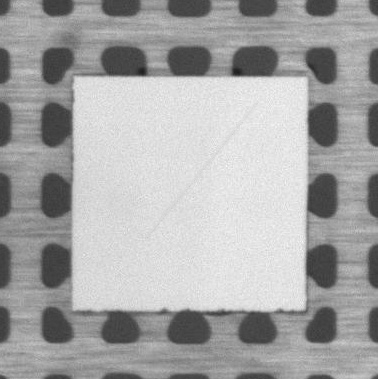DIE_CRACK: (147, 102, 257, 238)
